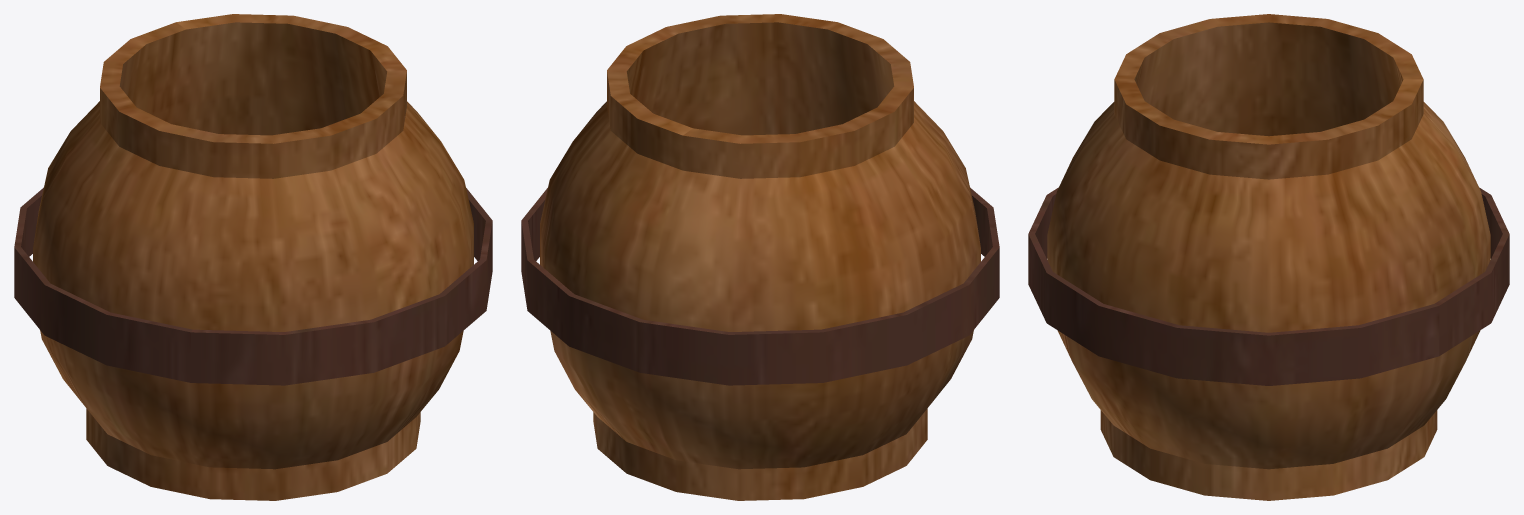
The model's file is SM_Pot_01_ed6b34.glb.
3 views of the same model, side by side, from view 1: azimuth 30°, elevation 25°; view 2: azimuth 150°, elevation 25°; view 3: azimuth 270°, elevation 25° (orthographic).
Bounding box in the file's own units: 0.3693 × 0.2968 × 0.3693.
2 materials, 2 textured.
